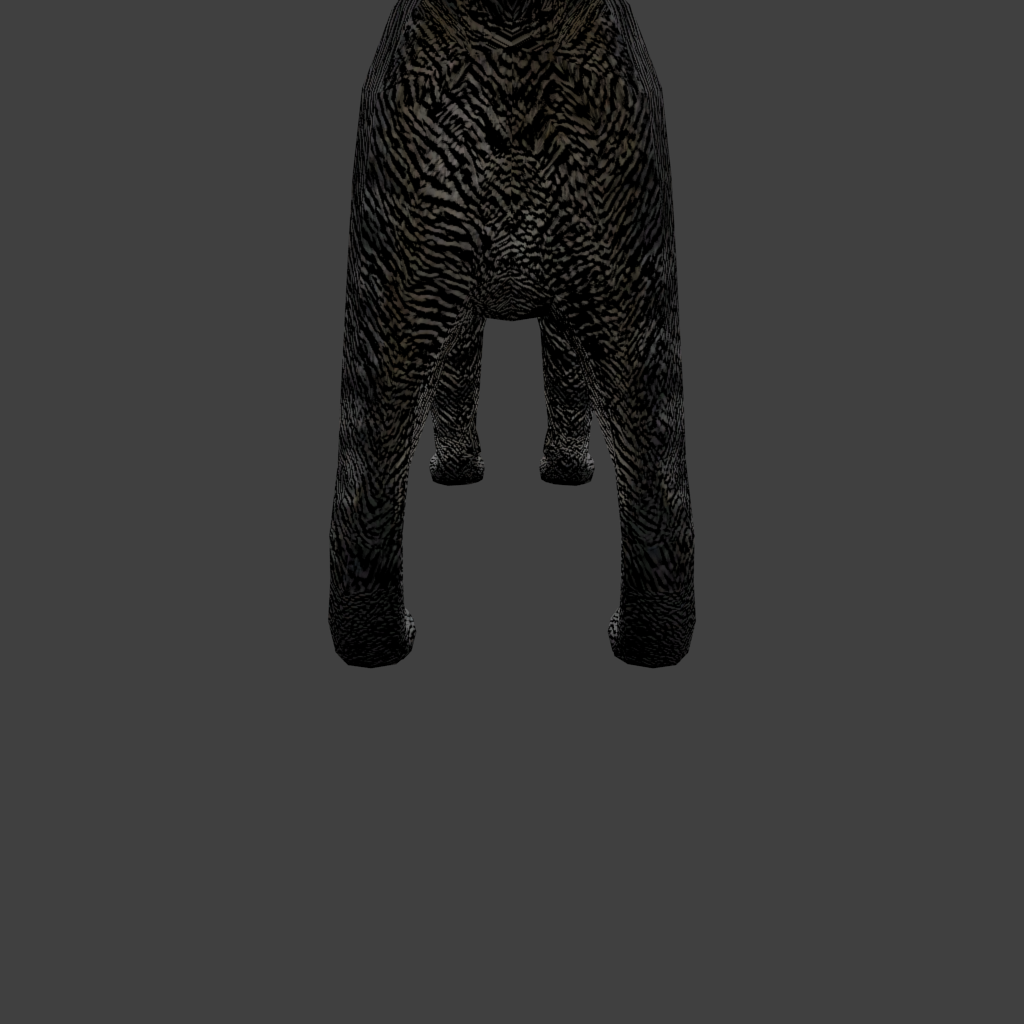Cat: (328, 0, 368, 668)
